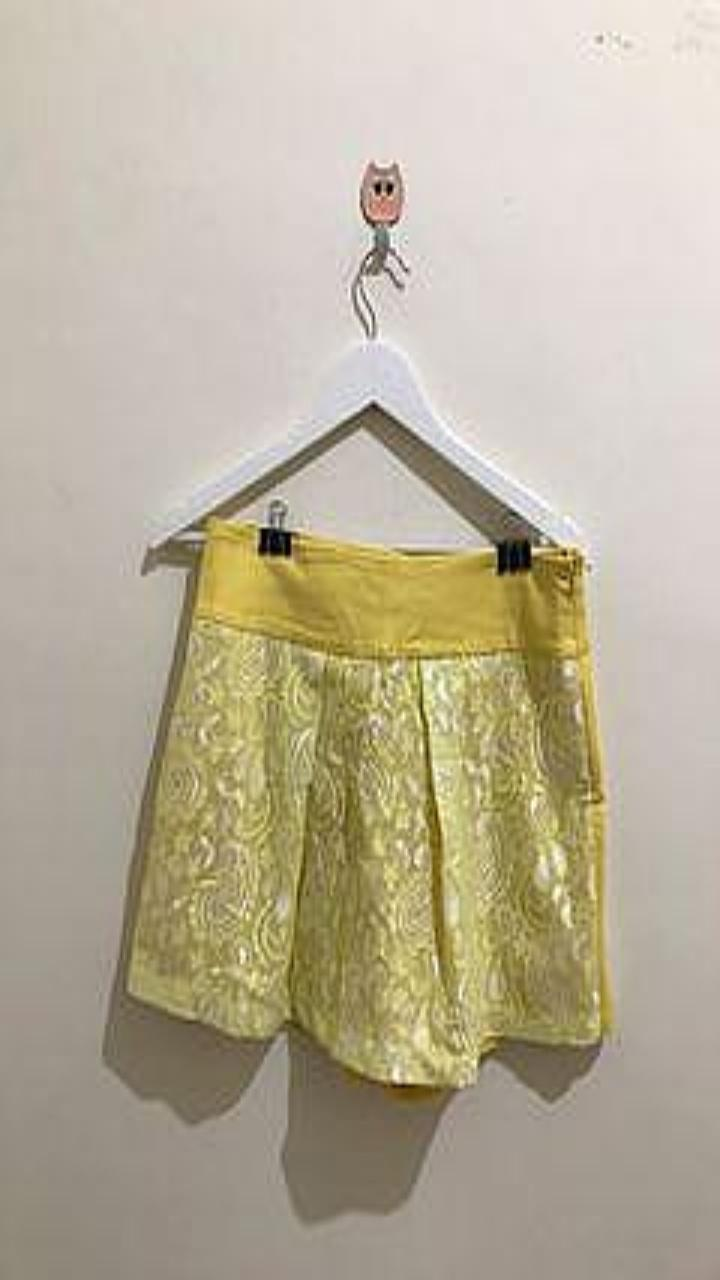Shorts: (126, 516, 610, 1088)
